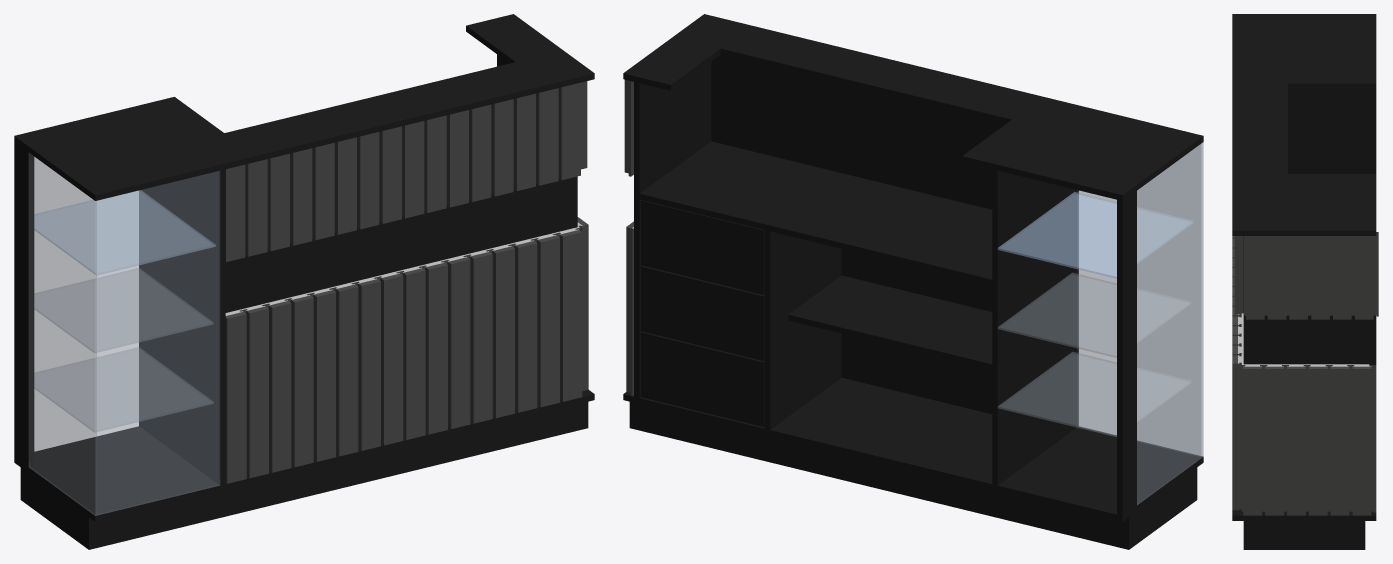
File: coutt.glb
3 views of the same model, side by side, from view 1: azimuth 30°, elevation 25°; view 2: azimuth 150°, elevation 25°; view 3: azimuth 270°, elevation 25° (orthographic). The views are drawn at different scales.
Parts seen in each view (by area): view 1: root; view 2: root; view 3: root.
Part boxes in pixels (x1,y1,x2,y2): root: [14, 14, 594, 549]; root: [623, 14, 1203, 549]; root: [1232, 14, 1378, 549].
Bounding box in the file's own units: 1.6 × 1.1 × 0.457.
